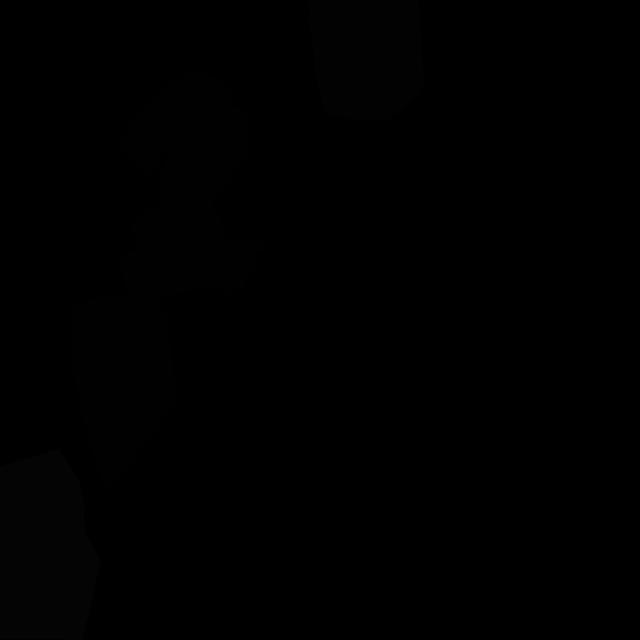cardboard: (307, 0, 424, 122)
rigid_plastic: (121, 70, 266, 301), (70, 294, 178, 487)
soft_plastic: (0, 448, 100, 640)
